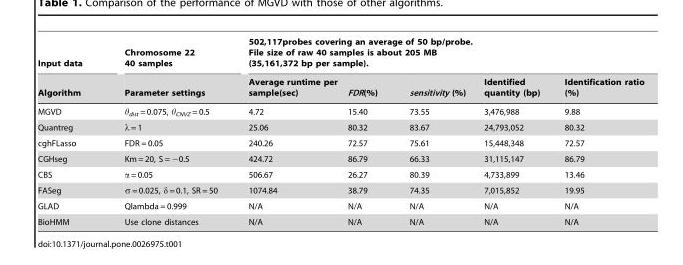table: (37, 37, 643, 226)
table column: (102, 37, 232, 226), (232, 37, 341, 226), (551, 37, 643, 226), (392, 37, 474, 226), (474, 37, 551, 226), (37, 37, 102, 226), (341, 37, 392, 226)
table column header: (37, 37, 643, 102)
table row: (37, 37, 643, 72), (37, 72, 643, 102), (37, 102, 643, 119), (37, 119, 643, 135), (37, 150, 643, 166), (37, 166, 643, 182), (37, 182, 643, 198), (37, 135, 643, 150), (37, 198, 643, 213), (37, 213, 643, 226)
table spanning cell: (232, 37, 643, 72), (102, 37, 232, 102), (37, 37, 102, 102)
